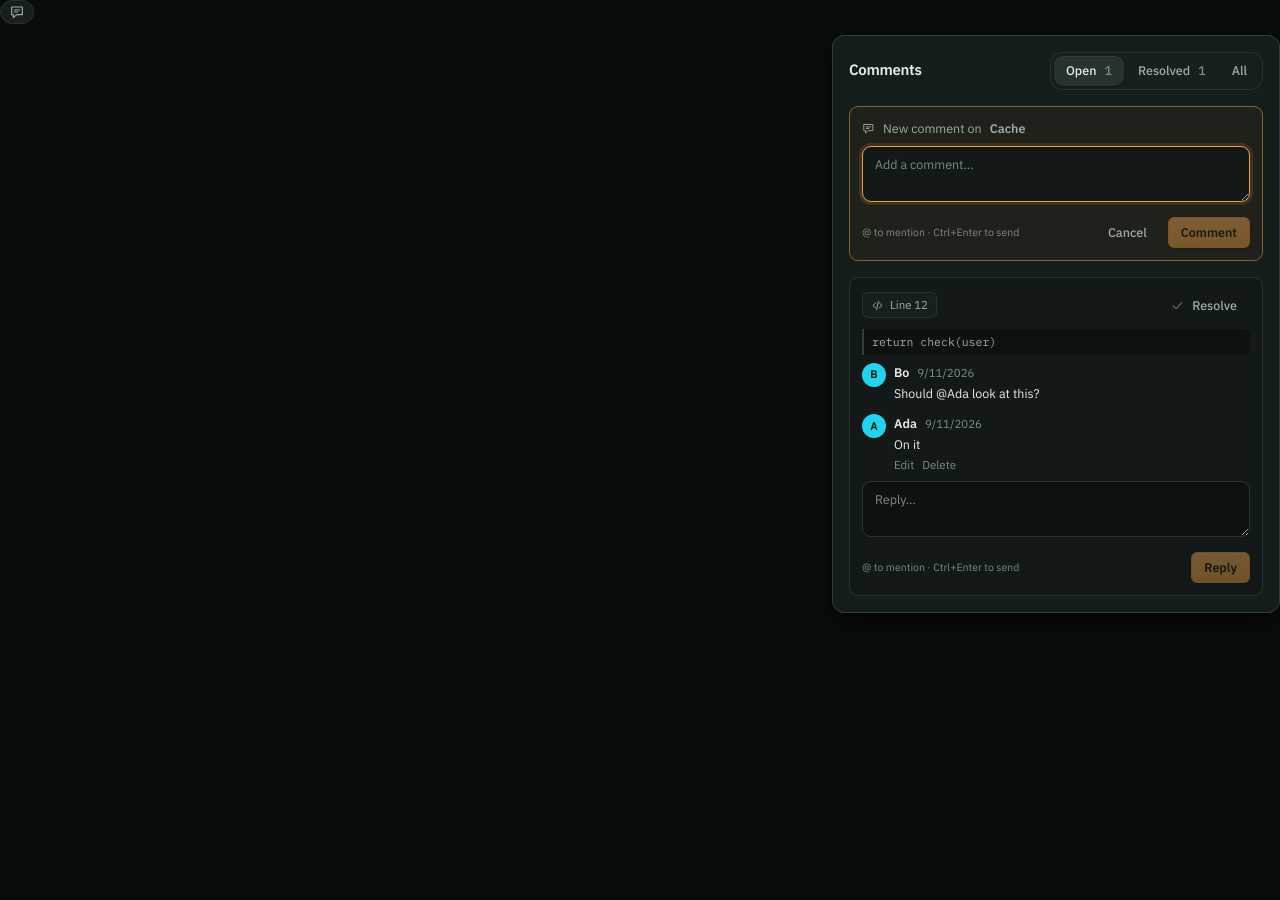
Scenario: writing a new comment › closes the list of people on Escape and nothing else
Type "@" into the dropdown named "New comment".
click(1056, 174); type("@")  # box [862, 146, 1250, 202]
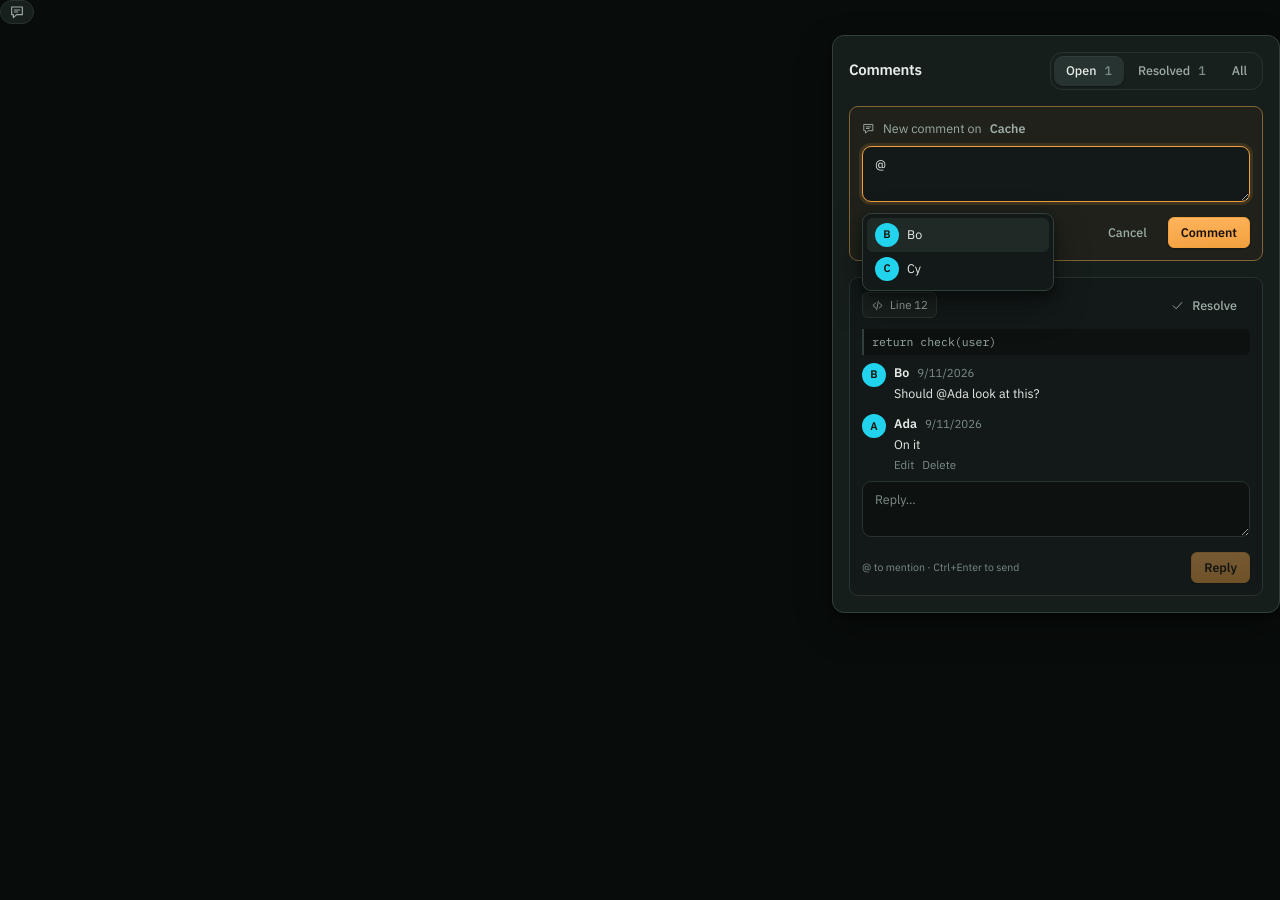
Expected: the list "B Bo C Cy" is shown, [862, 213, 1054, 291]
Press Escape
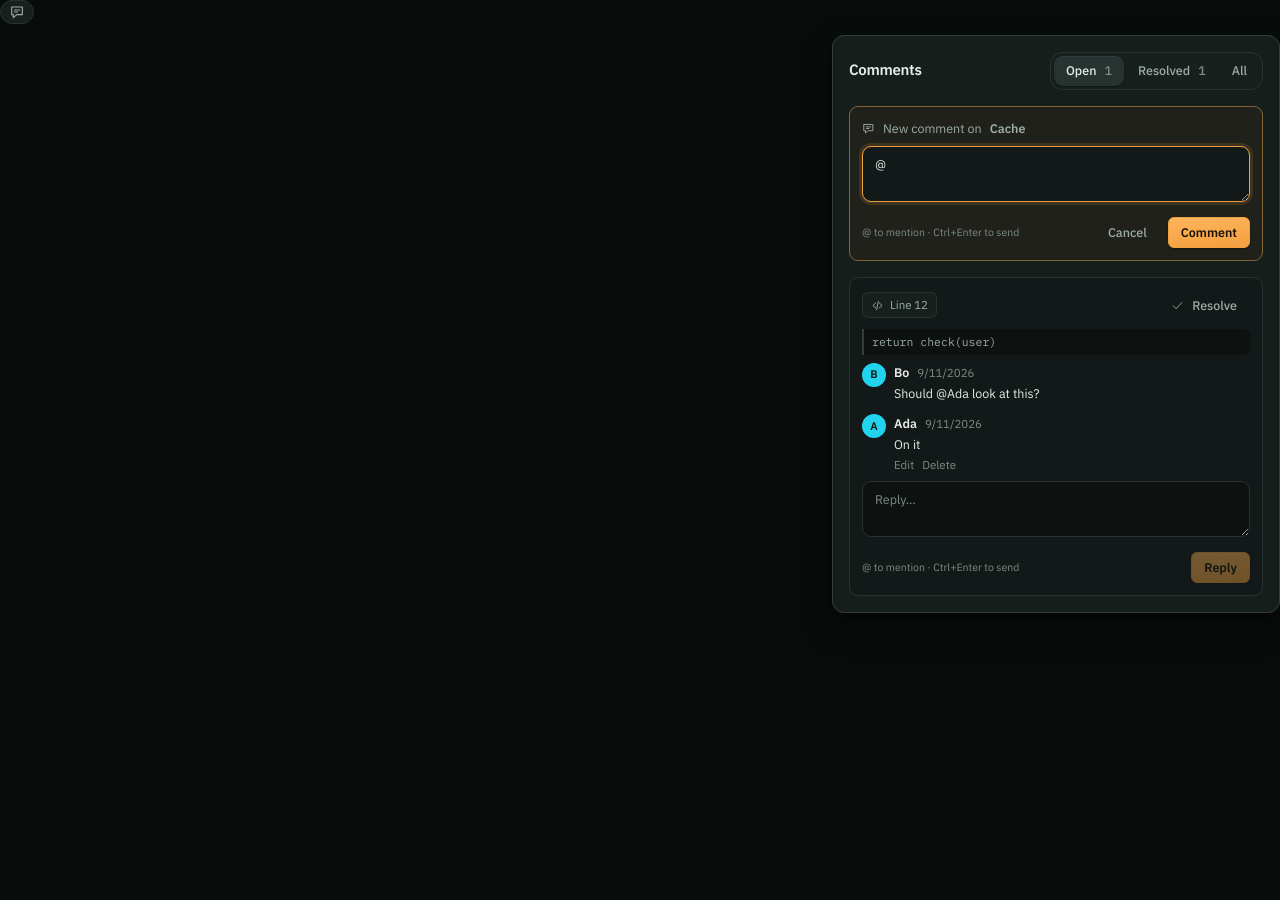
Expected: the list "B Bo C Cy" is gone
